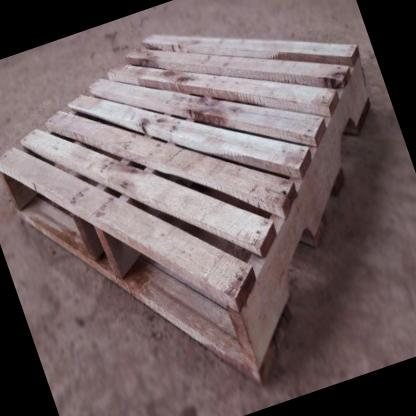BoxFace: (0, 32, 373, 382)
